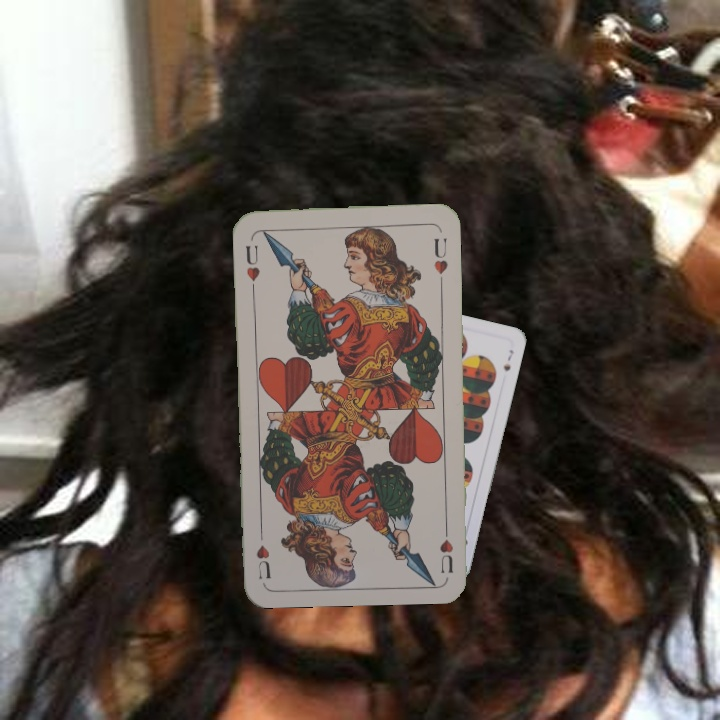HU: (436, 518, 456, 575), (241, 241, 262, 292)
